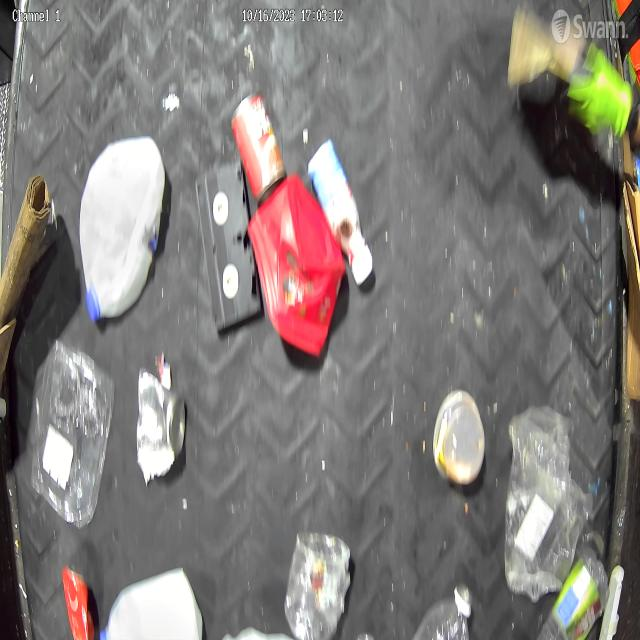can: (231, 85, 287, 197), (138, 368, 182, 484)
milk_jug: (79, 138, 164, 328), (92, 565, 202, 640)
plastic_bottle: (538, 545, 605, 640)
